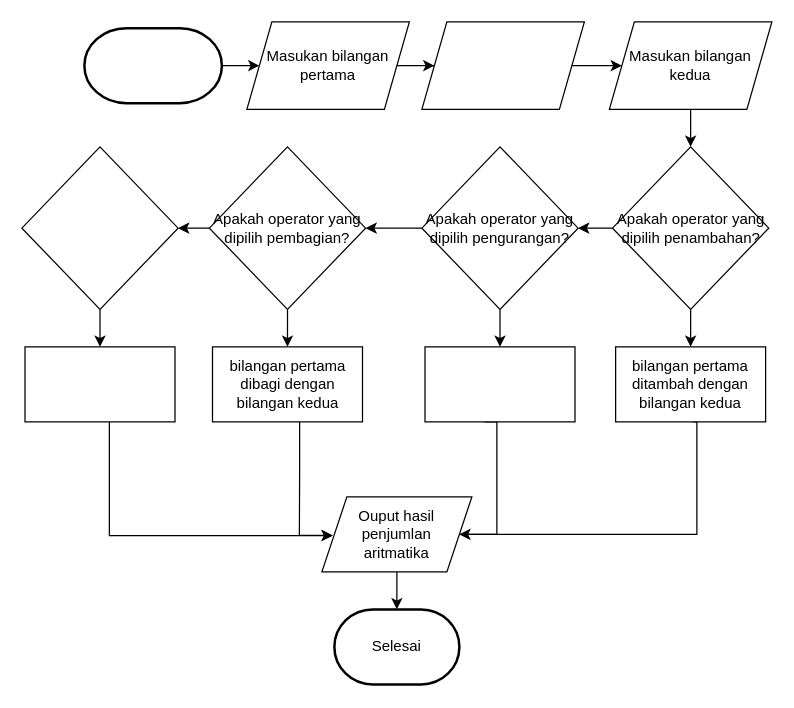
Some shapes in this 794 by 708 pixel diagram are drawn without their labels. The shapes that lost their labels are listed below. From the top down, each one's box as (x1, y1, x2, y2) in pixels, then its label:
(82, 26, 222, 104): Mulai
(421, 21, 584, 109): Masukan operator Aritmatika
(21, 146, 178, 309): Apakah operator yang dipilih perkalian?
(24, 346, 175, 422): bilangan pertama dikalikan dengan bilangan kedua
(424, 346, 575, 422): bilangan pertama dikurangi dengan bilangan kedua
